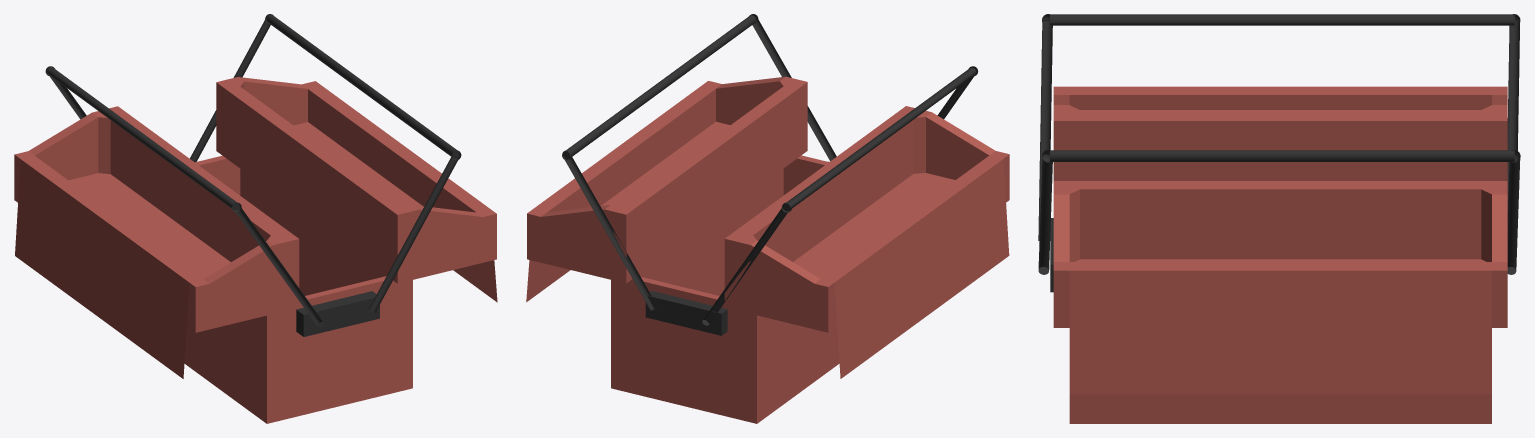
Rendered from cajaHerramientas.fbx.
The picture shows the model from 3 angles, left to right: view 1: azimuth 30°, elevation 25°; view 2: azimuth 150°, elevation 25°; view 3: azimuth 270°, elevation 25°; orthographic projection. The views are drawn at different scales.
Parts seen in each view (by area): view 1: Cube; view 2: Cube; view 3: Cube.
Part boxes in pixels (x1,y1,x2,y2): Cube: (14, 14, 497, 423); Cube: (526, 14, 1009, 423); Cube: (1038, 14, 1520, 423).
Bounding box in the file's own units: 215 × 155 × 228.
